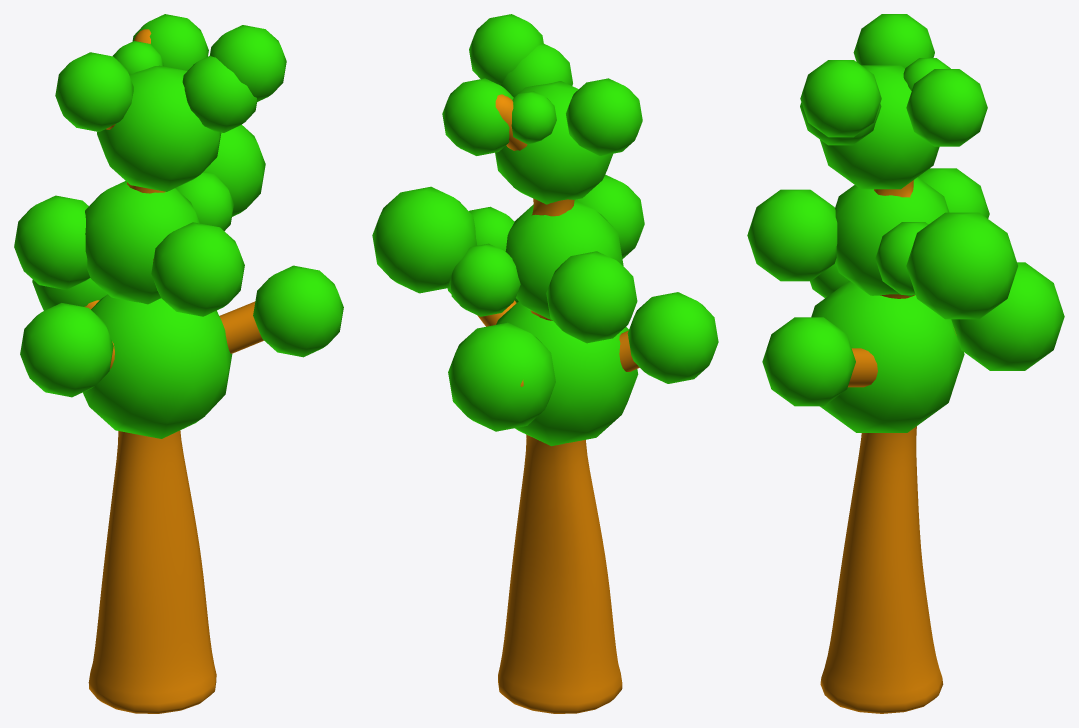
File: Tree2.fbx
3 renders of one model, left to right at view 1: azimuth 30°, elevation 25°; view 2: azimuth 150°, elevation 25°; view 3: azimuth 270°, elevation 25°, orthographic. The views are drawn at different scales.
Visible parts, largest first — view 1: Tree2; view 2: Tree2; view 3: Tree2.
Boxes of the visible parts, x1,y1,x2,y2 form: Tree2: [14, 14, 343, 713]; Tree2: [372, 14, 718, 713]; Tree2: [747, 14, 1064, 713].
Size of the model in its own units: 556 by 1222 by 526.
